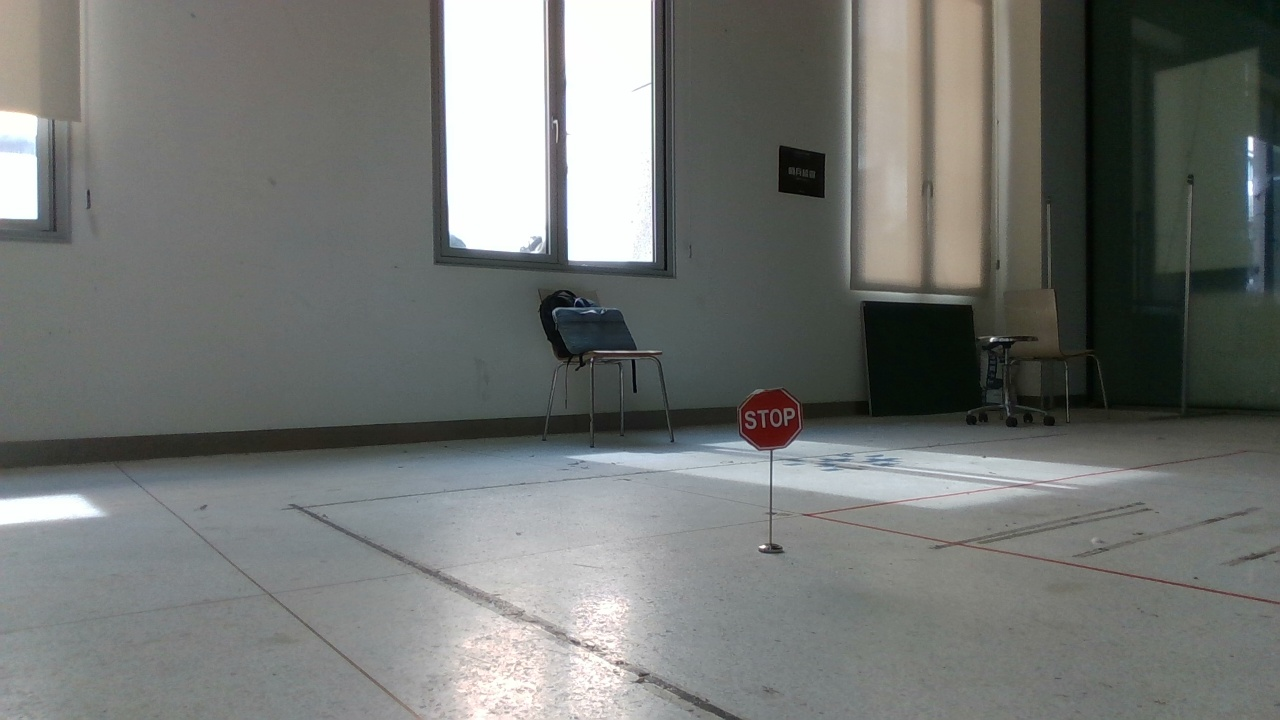stop_sign: (734, 379, 801, 451)
